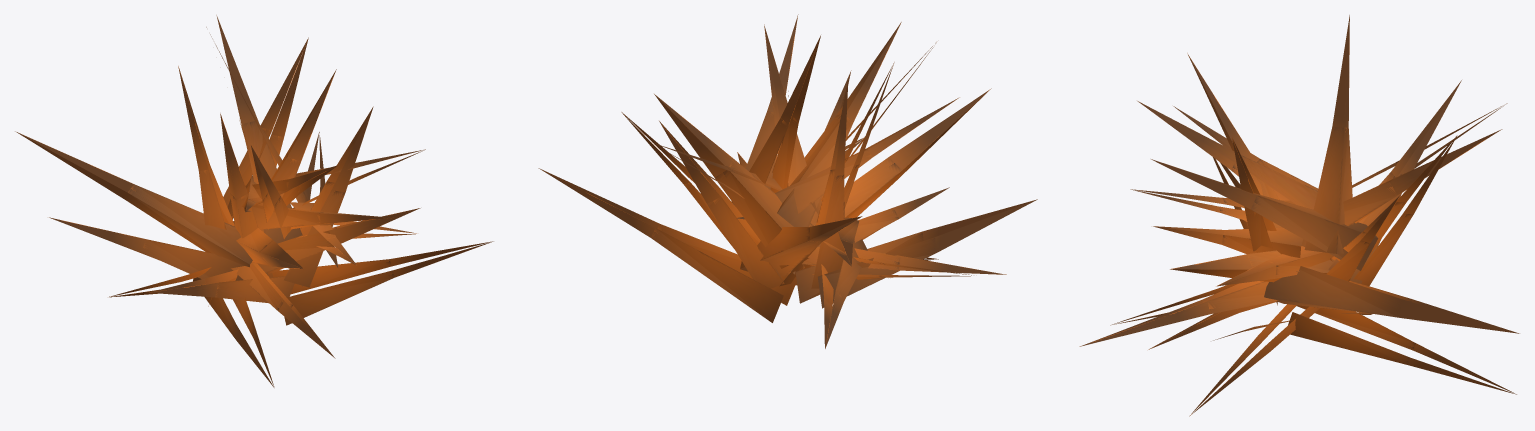
File: ATT_Hell_Thrall_A_v01.glb
The picture shows the model from 3 angles, left to right: view 1: azimuth 30°, elevation 25°; view 2: azimuth 150°, elevation 25°; view 3: azimuth 270°, elevation 25°; orthographic projection. The views are drawn at different scales.
Parts seen in each view (by area): view 1: ATT_Hell_Chest_A, ATT_Hell_Shoulder_L_A, ATT_Hell_Head_A, ATT_Hell_Back_A, ATT_Hell_Shoulder_R_A, ATT_Hell_Leg_L_A, ATT_Hell_Leg_R_A; view 2: ATT_Hell_Back_A, ATT_Hell_Shoulder_L_A, ATT_Hell_Head_A, ATT_Hell_Shoulder_R_A, ATT_Hell_Leg_R_A, ATT_Hell_Chest_A, ATT_Hell_Leg_L_A; view 3: ATT_Hell_Chest_A, ATT_Hell_Back_A, ATT_Hell_Shoulder_R_A, ATT_Hell_Head_A, ATT_Hell_Leg_L_A, ATT_Hell_Leg_R_A.
Boxes of the visible parts, bbox=[...] form: ATT_Hell_Chest_A: bbox=[15, 15, 337, 286]; ATT_Hell_Shoulder_L_A: bbox=[223, 37, 493, 325]; ATT_Hell_Head_A: bbox=[178, 66, 373, 287]; ATT_Hell_Back_A: bbox=[193, 149, 425, 387]; ATT_Hell_Shoulder_R_A: bbox=[109, 27, 305, 303]; ATT_Hell_Leg_L_A: bbox=[231, 205, 416, 358]; ATT_Hell_Leg_R_A: bbox=[208, 175, 356, 306]; ATT_Hell_Back_A: bbox=[733, 14, 1037, 308]; ATT_Hell_Shoulder_L_A: bbox=[538, 24, 820, 322]; ATT_Hell_Head_A: bbox=[621, 62, 894, 288]; ATT_Hell_Shoulder_R_A: bbox=[731, 35, 971, 285]; ATT_Hell_Leg_R_A: bbox=[775, 97, 1006, 274]; ATT_Hell_Chest_A: bbox=[654, 143, 867, 348]; ATT_Hell_Leg_L_A: bbox=[737, 70, 949, 280]; ATT_Hell_Chest_A: bbox=[1264, 103, 1519, 394]; ATT_Hell_Back_A: bbox=[1079, 101, 1378, 346]; ATT_Hell_Shoulder_R_A: bbox=[1187, 15, 1461, 305]; ATT_Hell_Head_A: bbox=[1232, 135, 1457, 285]; ATT_Hell_Leg_L_A: bbox=[1130, 189, 1333, 416]; ATT_Hell_Leg_R_A: bbox=[1148, 106, 1332, 349].
Bounding box in the file's own units: 0.3273 × 0.2776 × 0.3366.
1 material, 1 textured.
